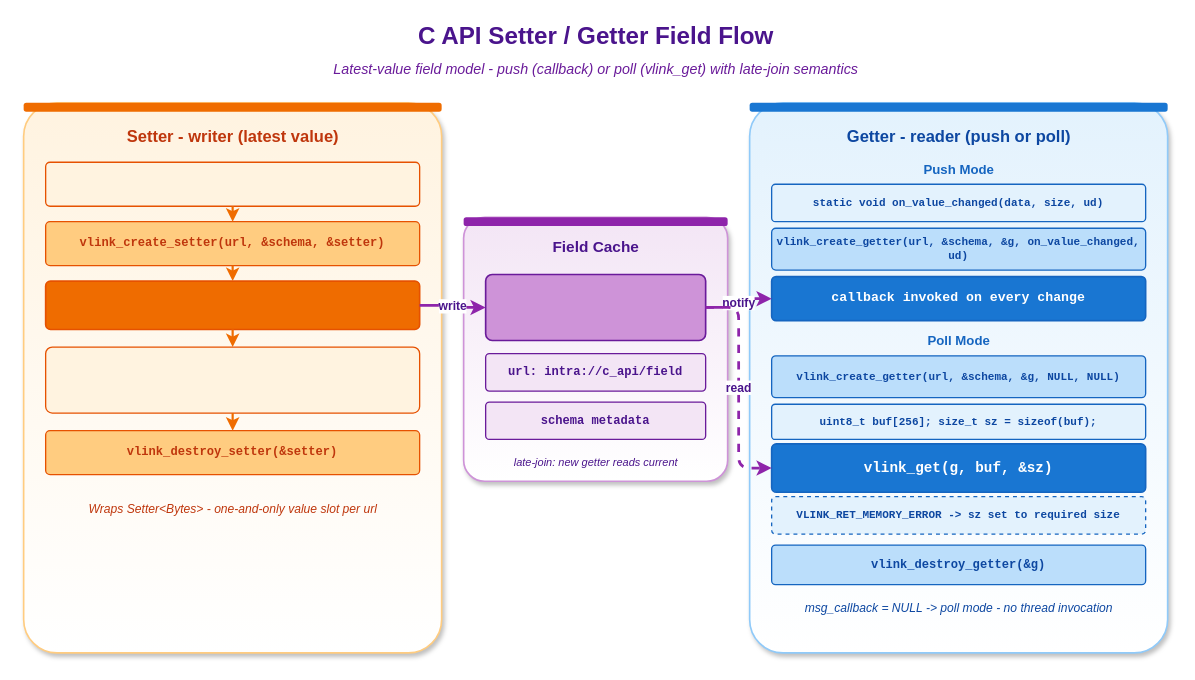
Image size: 1195x680. Some labels were removed from this diagram. Each missing label, with the centre of its shape:
current value (Bytes, latest only): point 595,307
loop: vlink_set(...) each call OVERWRITES prior value: point 232,379
vlink_schema_info_t schema = {"text", VLINK_SCHEMA_RAW}: point 232,183
vlink_set(setter, data, size): point 232,305
